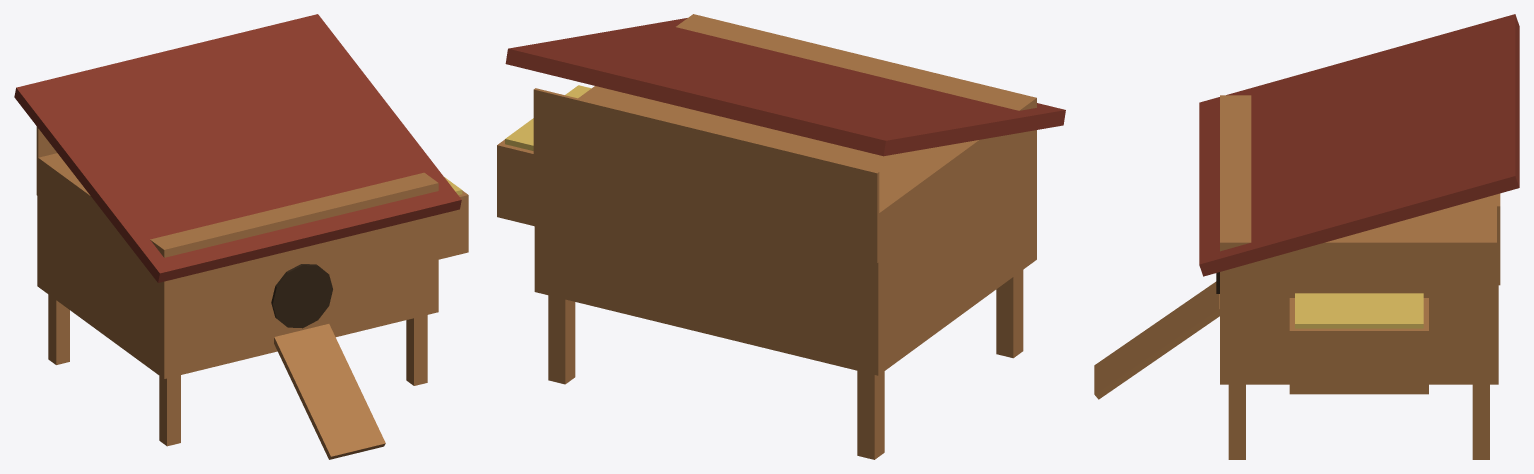
File: chicken_coop.glb
3 renders of one model, left to right at view 1: azimuth 30°, elevation 25°; view 2: azimuth 150°, elevation 25°; view 3: azimuth 270°, elevation 25°, orthographic. The views are drawn at different scales.
Visible parts, largest first — view 1: roof_coop_roof, house_coop_wood, ramp_coop_wood, stilts_coop_wood, door_coop_dark, nest_coop_wood; view 2: house_coop_wood, roof_coop_roof, roof_coop_wood, stilts_coop_wood, nest_coop_wood, nest_coop_straw; view 3: roof_coop_roof, house_coop_wood, nest_coop_wood, ramp_coop_wood, nest_coop_straw, stilts_coop_wood.
Part boxes in pixels (x1,y1,x2,y2): roof_coop_roof: [14, 14, 461, 282]; house_coop_wood: [37, 153, 438, 378]; ramp_coop_wood: [274, 324, 385, 459]; stilts_coop_wood: [48, 294, 427, 446]; door_coop_dark: [271, 264, 332, 328]; nest_coop_wood: [438, 190, 468, 259]; house_coop_wood: [534, 14, 1036, 375]; roof_coop_roof: [505, 18, 1065, 156]; roof_coop_wood: [533, 88, 879, 262]; stilts_coop_wood: [548, 270, 1023, 459]; nest_coop_wood: [497, 139, 534, 226]; nest_coop_straw: [505, 85, 591, 150]; roof_coop_roof: [1199, 14, 1519, 276]; house_coop_wood: [1220, 95, 1498, 384]; nest_coop_wood: [1289, 298, 1428, 394]; ramp_coop_wood: [1094, 281, 1219, 399]; nest_coop_straw: [1295, 293, 1423, 328]; stilts_coop_wood: [1228, 384, 1489, 459].
Size of the model in its own units: 2.55 by 1.87 by 2.44.
